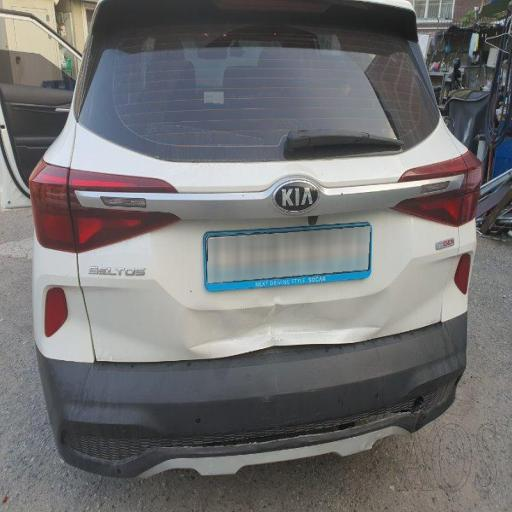dent: (114, 152, 403, 346)
